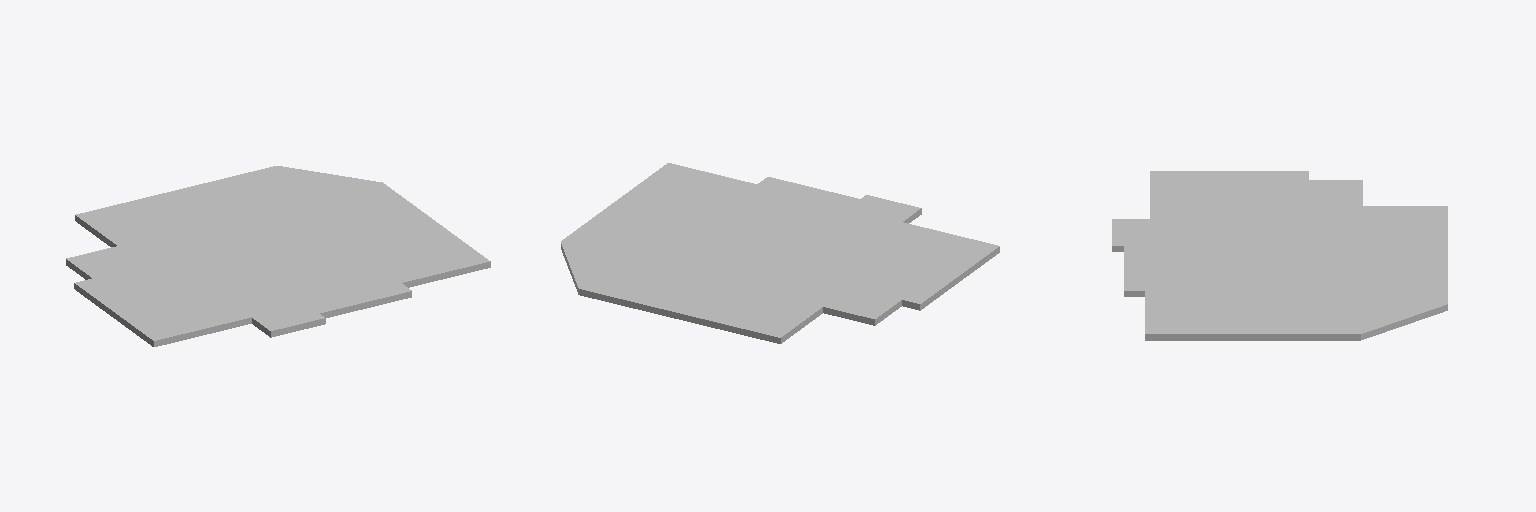
Rendered from roof.obj.
3 renders of one model, left to right at view 1: azimuth 30°, elevation 25°; view 2: azimuth 150°, elevation 25°; view 3: azimuth 270°, elevation 25°, orthographic.
Visible parts, largest first — view 1: Plane; view 2: Plane; view 3: Plane.
Boxes of the visible parts, x1,y1,x2,y2 form: Plane: [66, 166, 490, 346]; Plane: [561, 163, 999, 343]; Plane: [1112, 171, 1447, 340].
Bounding box in the file's own units: 28.92 × 0.5248 × 25.22.